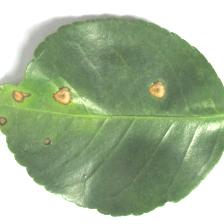canker: (1, 55, 173, 158)
